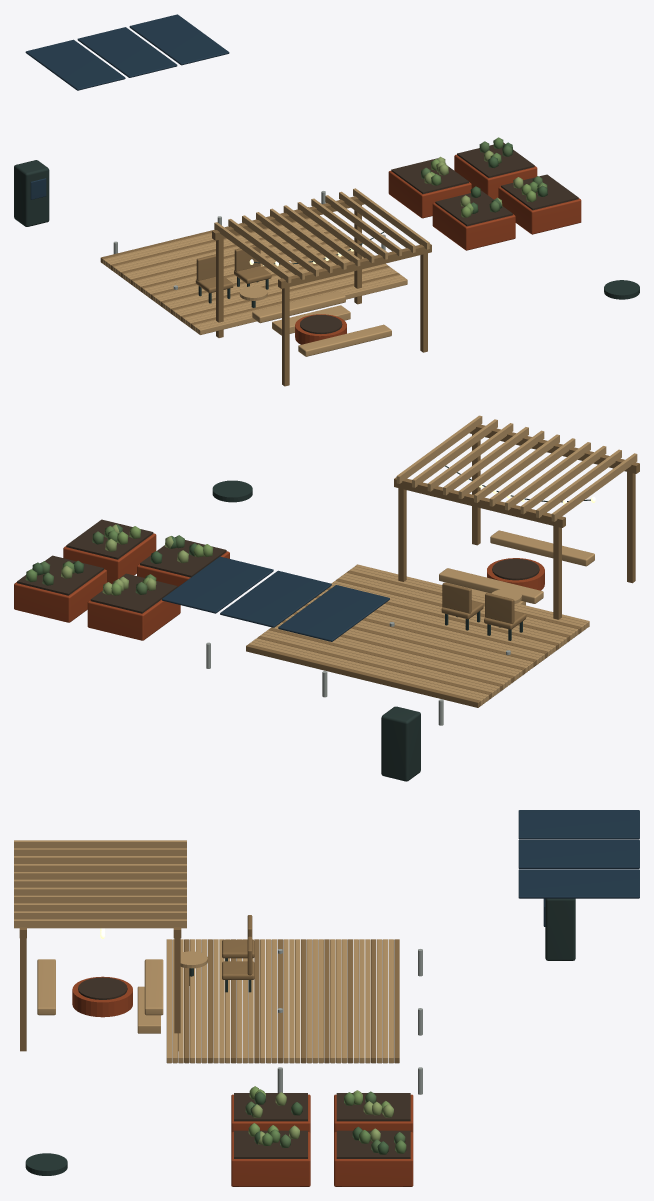
File: addons.glb
3 views of the same model, one above another, from view 1: azimuth 30°, elevation 25°; view 2: azimuth 150°, elevation 25°; view 3: azimuth 270°, elevation 25° (orthographic). The views are drawn at different scales.
Parts seen in each view (by area): view 1: Off-grid panel 3 kWp.002, Off-grid panel 3 kWp, Off-grid panel 3 kWp.001, Corten vyvýšený záhon.002, Corten vyvýšený záhon.003, Victron Energy bateriový kabinet, Corten vyvýšený záhon, Nosník pergoly.001, Corten vyvýšený záhon.001, Dřevěné posezení.001, Substrát.001, Substrát.002 (+29 smaller); view 2: Off-grid panel 3 kWp.002, Off-grid panel 3 kWp.001, Off-grid panel 3 kWp, Victron Energy bateriový kabinet, Corten vyvýšený záhon.001, Corten vyvýšený záhon, Modřínové terasové prkno, Corten vyvýšený záhon.003, Nosník pergoly, Substrát, Dřevěné posezení.001, Substrát.003 (+63 smaller); view 3: Off-grid panel 3 kWp, Off-grid panel 3 kWp.001, Off-grid panel 3 kWp.002, Corten vyvýšený záhon.001, Corten vyvýšený záhon.003, Victron Energy bateriový kabinet, Stínicí lamely pergoly.010, Substrát.002, Substrát.003, Stínicí lamely pergoly, Stínicí lamely pergoly.005, Stínicí lamely pergoly.006 (+57 smaller).
Boxes of the visible parts, left/top/right/bottom form: Off-grid panel 3 kWp.002: left=129, top=14, right=229, bottom=65; Off-grid panel 3 kWp: left=25, top=39, right=125, bottom=90; Off-grid panel 3 kWp.001: left=77, top=27, right=177, bottom=77; Corten vyvýšený záhon.002: left=432, top=203, right=515, bottom=250; Corten vyvýšený záhon.003: left=498, top=187, right=581, bottom=234; Victron Energy bateriový kabinet: left=14, top=160, right=49, bottom=226; Corten vyvýšený záhon: left=388, top=170, right=471, bottom=218; Nosník pergoly.001: left=278, top=243, right=431, bottom=288; Corten vyvýšený záhon.001: left=454, top=154, right=537, bottom=199; Dřevěné posezení.001: left=298, top=324, right=391, bottom=356; Substrát.001: left=457, top=142, right=534, bottom=177; Substrát.002: left=435, top=190, right=512, bottom=226; Off-grid panel 3 kWp.002: left=162, top=556, right=273, bottom=613; Off-grid panel 3 kWp.001: left=220, top=570, right=331, bottom=627; Off-grid panel 3 kWp: left=278, top=585, right=389, bottom=641; Victron Energy bateriový kabinet: left=381, top=706, right=420, bottom=781; Corten vyvýšený záhon.001: left=14, top=569, right=106, bottom=622; Corten vyvýšený záhon: left=87, top=599, right=180, bottom=640; Modřínové terasové prkno: left=246, top=644, right=480, bottom=707; Corten vyvýšený záhon.003: left=63, top=533, right=156, bottom=583; Nosník pergoly: left=394, top=477, right=565, bottom=527; Substrát: left=90, top=573, right=177, bottom=613; Dřevěné posezení.001: left=490, top=530, right=594, bottom=566; Substrát.003: left=66, top=519, right=153, bottom=559; Off-grid panel 3 kWp: left=518, top=810, right=639, bottom=839; Off-grid panel 3 kWp.001: left=518, top=839, right=639, bottom=868; Off-grid panel 3 kWp.002: left=518, top=869, right=639, bottom=898; Corten vyvýšený záhon.001: left=334, top=1132, right=413, bottom=1186; Corten vyvýšený záhon.003: left=231, top=1132, right=310, bottom=1186; Victron Energy bateriový kabinet: left=545, top=898, right=575, bottom=960; Stínicí lamely pergoly.010: left=14, top=919, right=186, bottom=928; Substrát.002: left=234, top=1093, right=307, bottom=1121; Substrát.003: left=234, top=1130, right=307, bottom=1158; Stínicí lamely pergoly: left=14, top=840, right=186, bottom=848; Stínicí lamely pergoly.005: left=14, top=879, right=186, bottom=887; Stínicí lamely pergoly.006: left=14, top=887, right=186, bottom=895.
Size of the model in its own units: 12.17 by 3.96 by 13.4.
